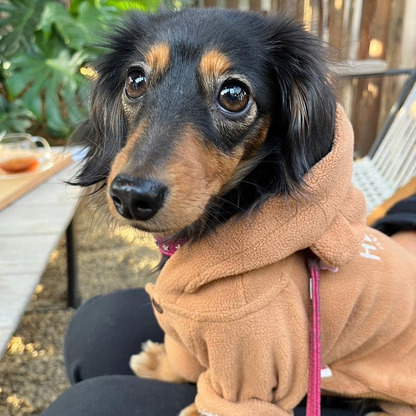dachshund: (72, 9, 395, 395)
